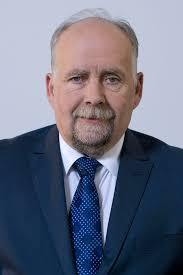person: (33, 0, 155, 160)
